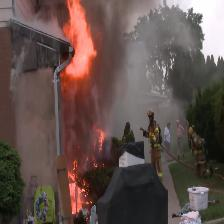fire: (56, 0, 125, 220)
smoke: (106, 0, 224, 106)
